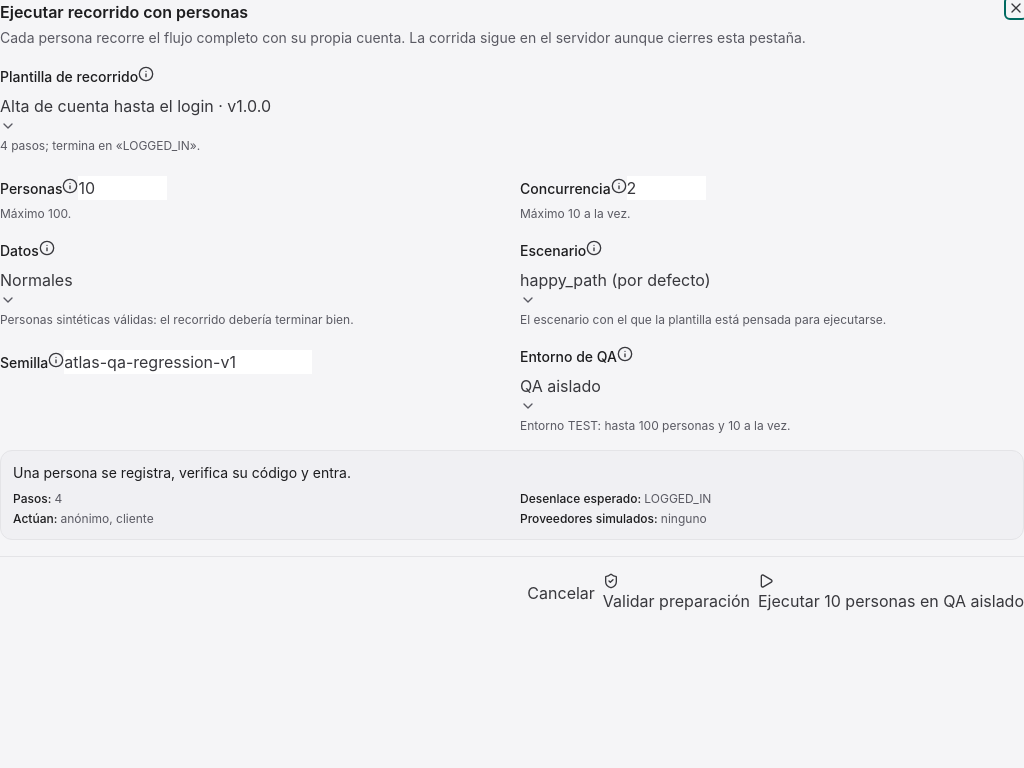
Test: RunLaunchDialog · UI/contrato con respuestas simuladas del contrato QA › un PLAN_CHANGED (409) se explica y, si la preparación ya no sirve, obliga a revalidar
Expected: the number field labelled "Personas" is shown, left=78, top=176, right=168, bottom=200
Click the button "Validar preparación".
click(676, 593)  # box left=603, top=573, right=750, bottom=613
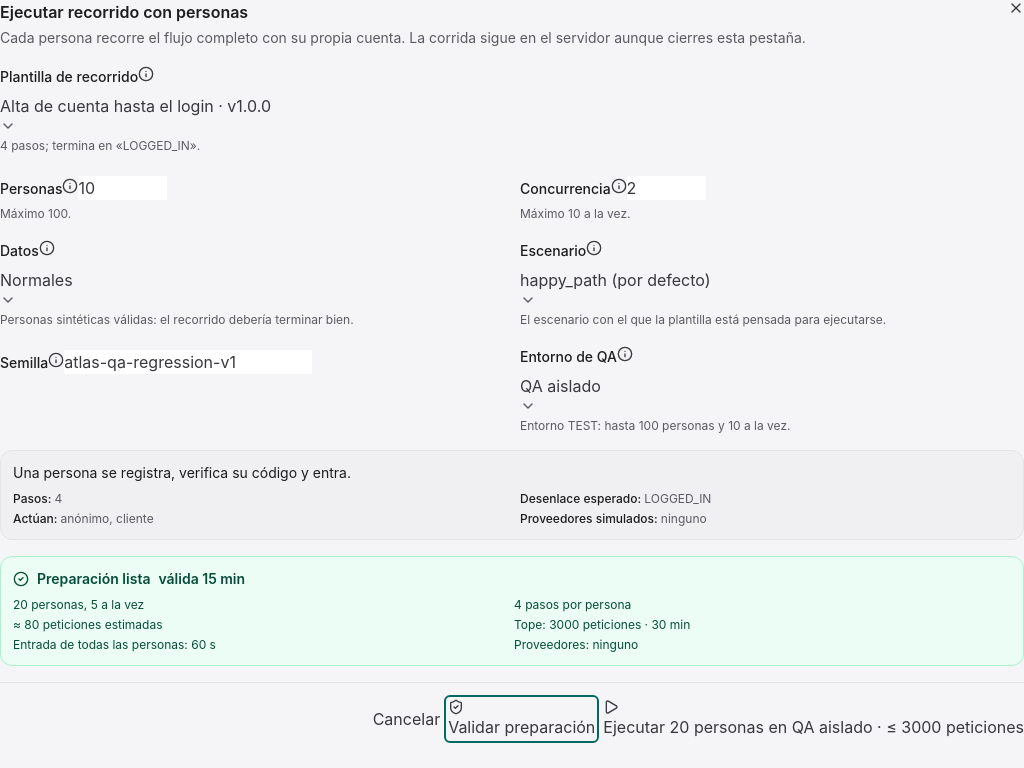
Expected: the text "Preparación lista" is shown, left=37, top=570, right=150, bottom=587
Click the button "Ejecutar 20 personas en QA aislado · ≤ 3000 peticiones".
click(814, 719)  # box left=603, top=699, right=1023, bottom=739
(page scrolled)
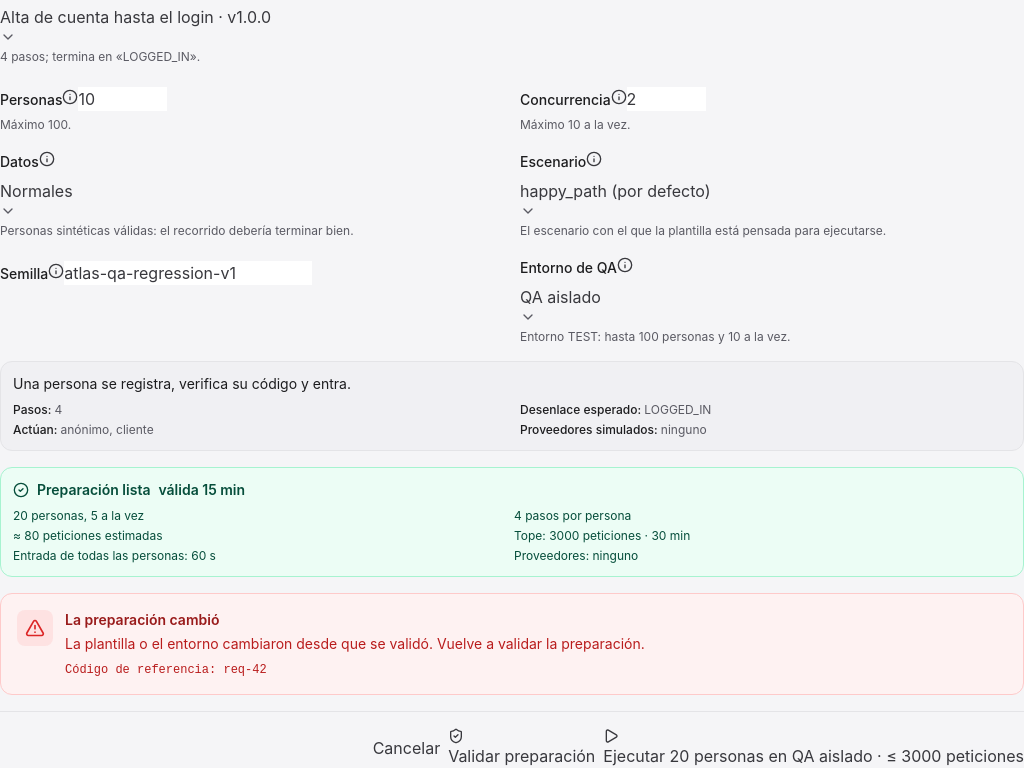
Expected: the heading "La preparación cambió" is shown, left=65, top=611, right=219, bottom=628
Expected: the text "Código de referencia: req-42" is shown, left=65, top=663, right=267, bottom=677
Expected: the button "Ejecutar 20 personas en QA aislado · ≤ 3000 peticiones" is disabled, left=603, top=728, right=1023, bottom=767
